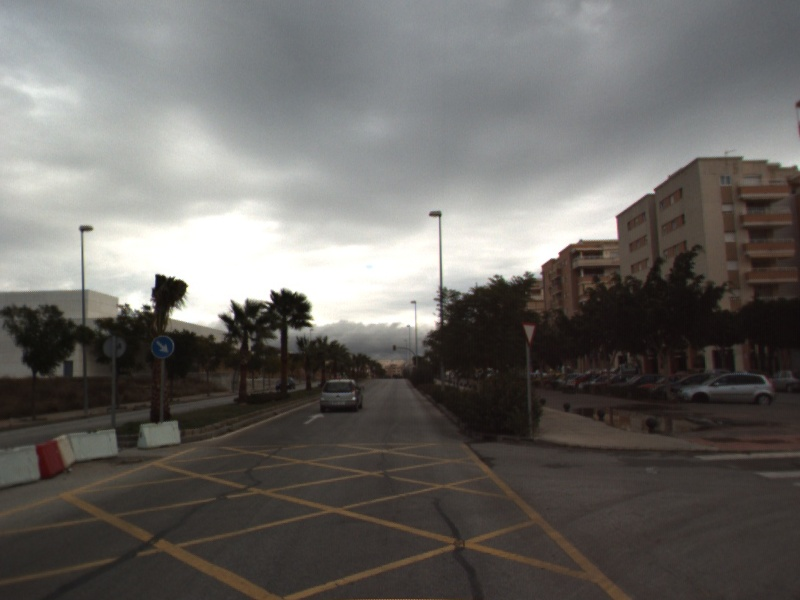STRAIGHT: (302, 410, 327, 426)
